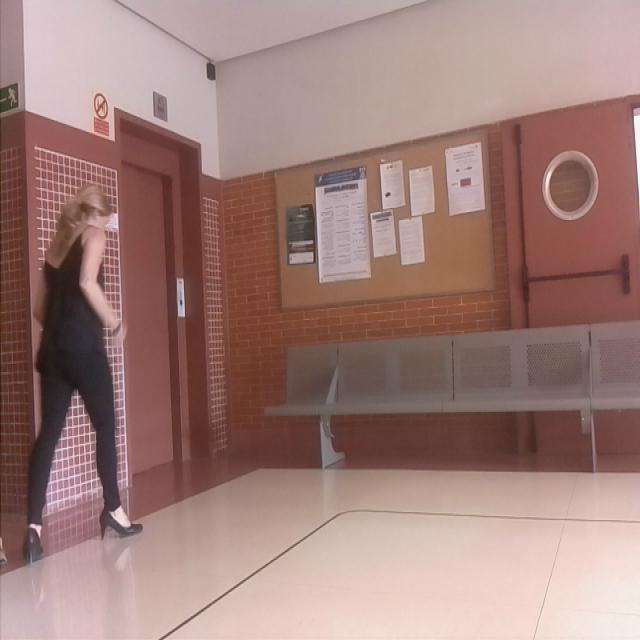person: (25, 186, 142, 562)
